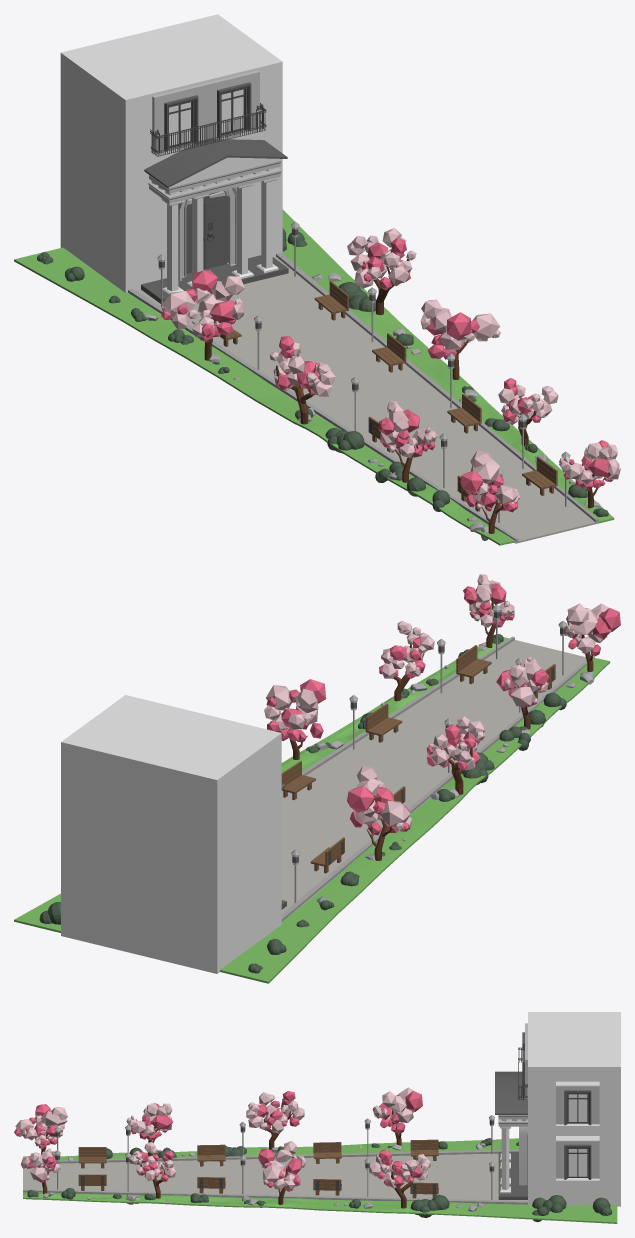
File: campus.fbx
3 views of the same model, one above another, from view 1: azimuth 30°, elevation 25°; view 2: azimuth 150°, elevation 25°; view 3: azimuth 270°, elevation 25° (orthographic). The views are drawn at different scales.
Parts seen in each view (by area): view 1: polySurface757, polySurface419, polySurface416, polySurface417, polySurface420, polySurface418, polySurface758; view 2: polySurface757, polySurface419, polySurface416, polySurface417, polySurface420, polySurface418; view 3: polySurface757, polySurface419, polySurface417, polySurface416, polySurface418, polySurface420.
Boxes of the visible parts, x1=… form: polySurface757: x1=60, y1=14, x2=288, y2=303; polySurface419: x1=136, y1=256, x2=598, y2=543; polySurface416: x1=14, y1=247, x2=515, y2=545; polySurface417: x1=282, y1=209, x2=614, y2=523; polySurface420: x1=128, y1=289, x2=518, y2=541; polySurface418: x1=276, y1=252, x2=598, y2=522; polySurface758: x1=204, y1=198, x2=226, y2=269; polySurface757: x1=61, y1=695, x2=286, y2=973; polySurface419: x1=281, y1=640, x2=586, y2=913; polySurface416: x1=220, y1=658, x2=610, y2=983; polySurface417: x1=14, y1=637, x2=508, y2=932; polySurface420: x1=281, y1=656, x2=594, y2=921; polySurface418: x1=281, y1=636, x2=514, y2=790; polySurface757: x1=495, y1=1012, x2=620, y2=1206; polySurface419: x1=23, y1=1153, x2=527, y2=1200; polySurface417: x1=23, y1=1192, x2=617, y2=1223; polySurface416: x1=23, y1=1138, x2=518, y2=1160; polySurface418: x1=23, y1=1189, x2=527, y2=1204; polySurface420: x1=56, y1=1149, x2=518, y2=1163.
Size of what is drawn, in the model's own units: 48.54 by 37.57 by 139.
